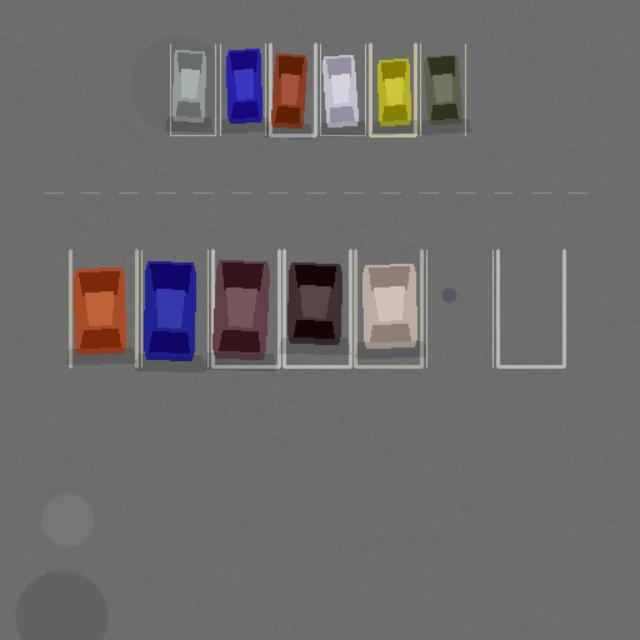space-empty: (426, 250, 492, 366), (498, 250, 564, 366)
space-occupied: (141, 250, 208, 366), (212, 250, 279, 366), (70, 250, 136, 366), (284, 250, 350, 366), (355, 250, 421, 366), (170, 44, 215, 135), (220, 44, 265, 135), (270, 44, 315, 135), (320, 44, 365, 135), (370, 44, 415, 135), (420, 44, 465, 135)
